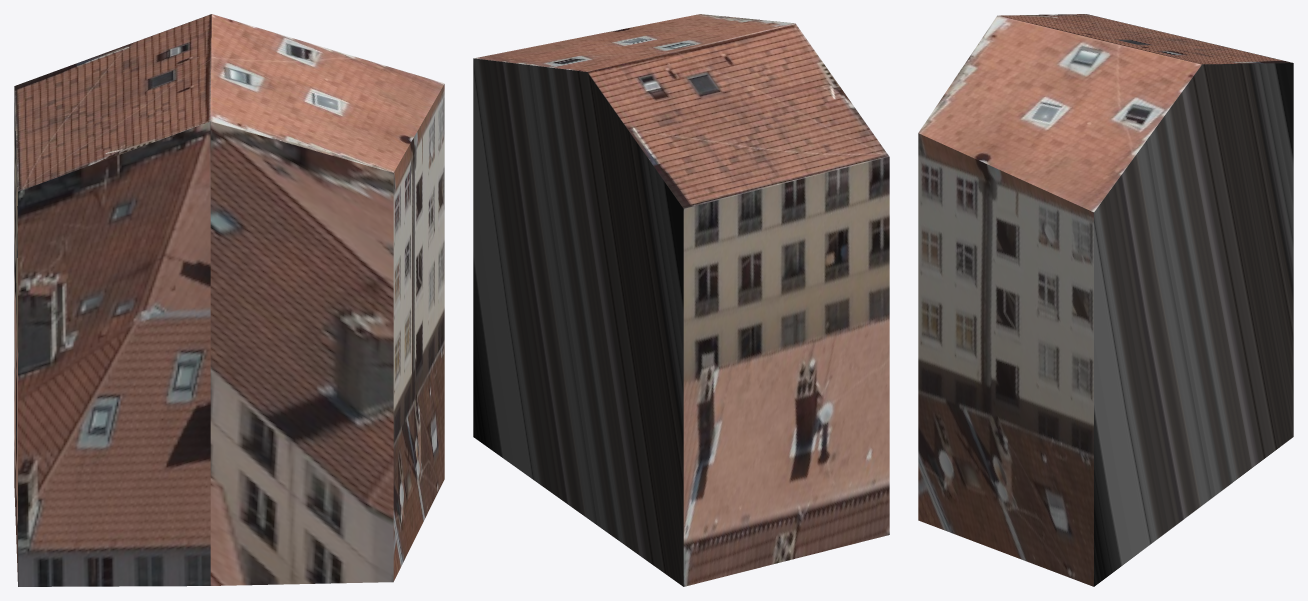
The picture shows the model from 3 angles, left to right: view 1: azimuth 30°, elevation 25°; view 2: azimuth 150°, elevation 25°; view 3: azimuth 270°, elevation 25°; orthographic projection. The views are drawn at different scales.
Visible parts, largest first — view 1: Z_UP; view 2: Z_UP; view 3: Z_UP.
Part boxes in pixels (x1,y1,x2,y2): Z_UP: (14,14,444,586); Z_UP: (473,14,889,586); Z_UP: (918,14,1293,586).
Size of the model in its own units: 22.23 by 23 by 17.74.
Materials: 2 (1 with a texture image).
